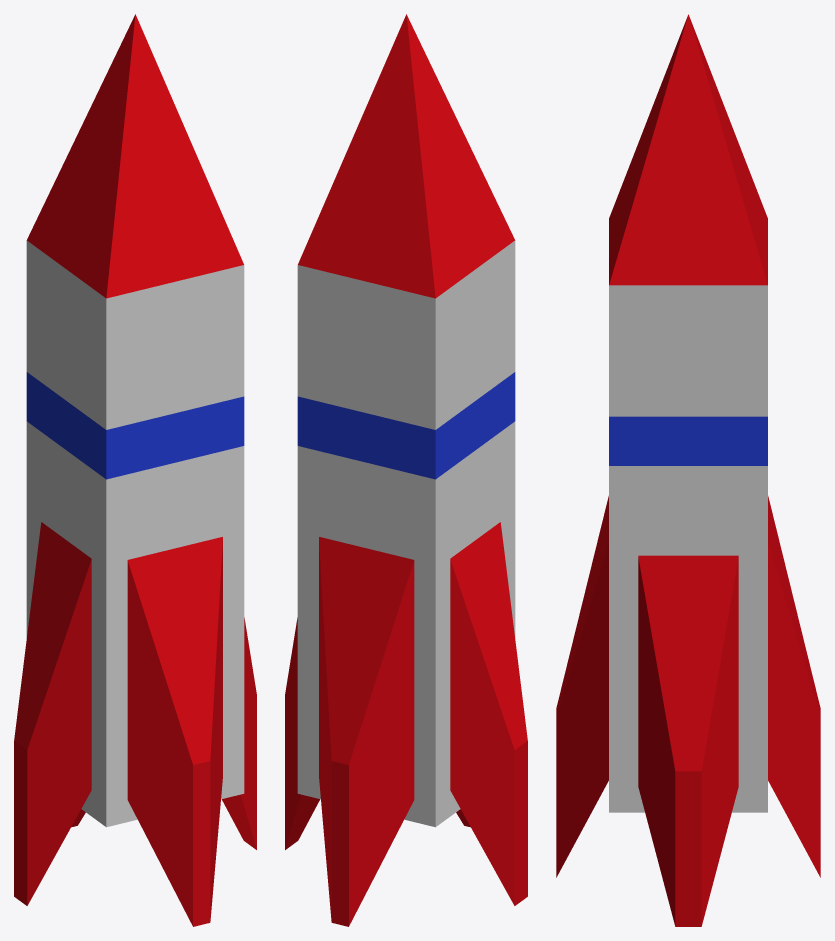
Rendered from rocket.fbx.
3 views of the same model, side by side, from view 1: azimuth 30°, elevation 25°; view 2: azimuth 150°, elevation 25°; view 3: azimuth 270°, elevation 25° (orthographic).
Parts seen in each view (by area): view 1: Cube; view 2: Cube; view 3: Cube.
Part boxes in pixels (bbox=[...]): Cube: bbox=[14, 14, 256, 926]; Cube: bbox=[285, 14, 527, 926]; Cube: bbox=[556, 14, 820, 926].
Bounding box in the file's own units: 193 × 692 × 193.
